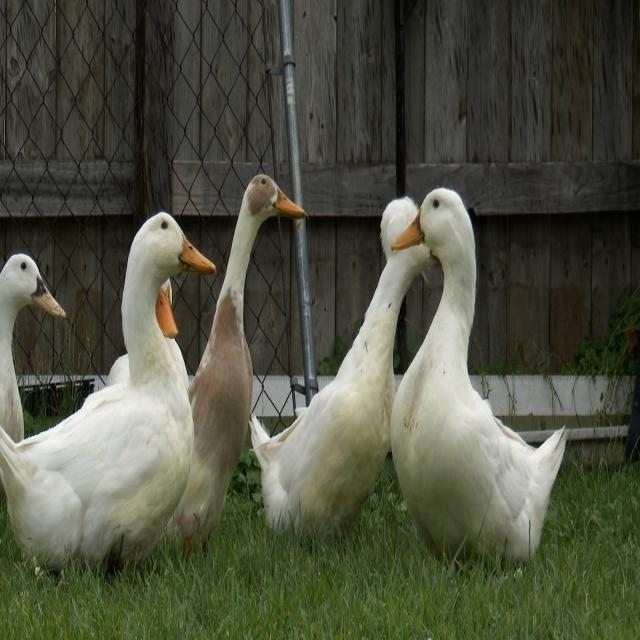duck: (0, 212, 216, 567), (391, 188, 567, 560), (250, 197, 435, 535), (166, 174, 305, 552), (0, 252, 65, 440)
